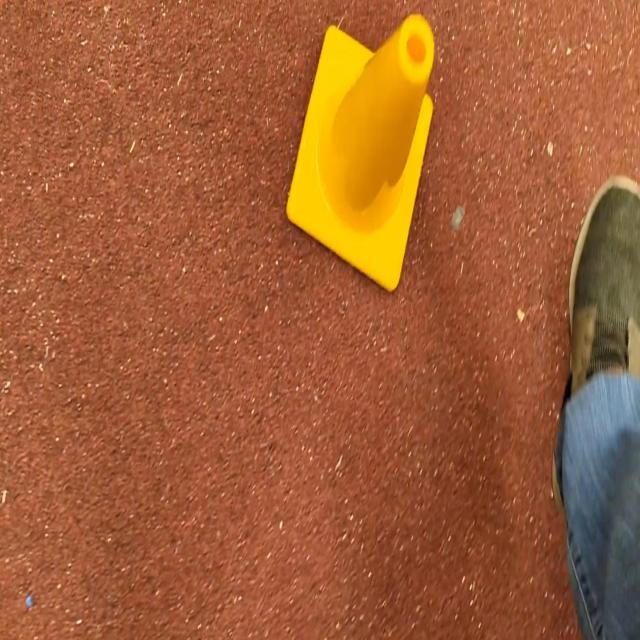frc_cone: (285, 0, 446, 309)
